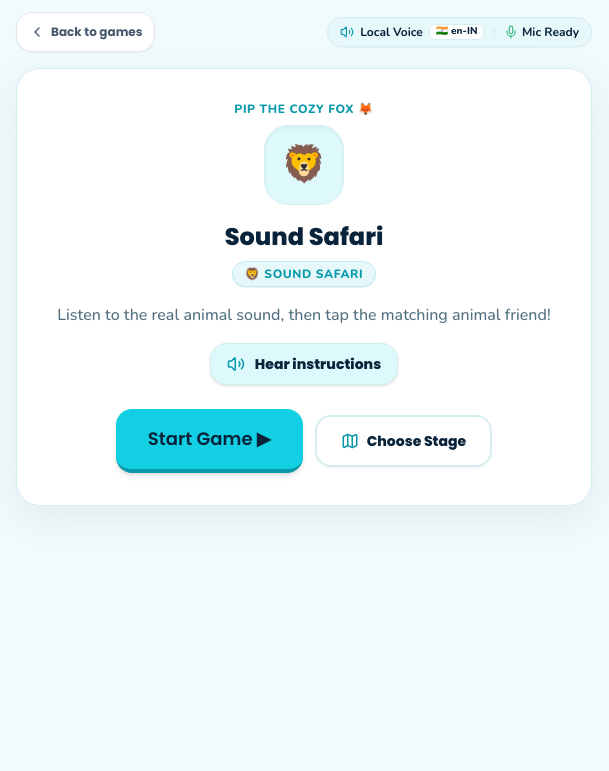
Scenario: Sound Safari 25-Level Real Animal Sound & Gameplay Suite › 10. Route alias /child/games/sound-safari cleanly mounts Sound Safari with 5-stage progression
Expected: the heading "Sound Safari" is shown, [225,220,383,253]
Expected: the text "🦁 Sound Safari" is shown, [232,261,376,287]
# Open Stage Roadmap
Click the button with test id "choose-stage-button": (403, 441) [315,415,492,467]
(page scrolled)
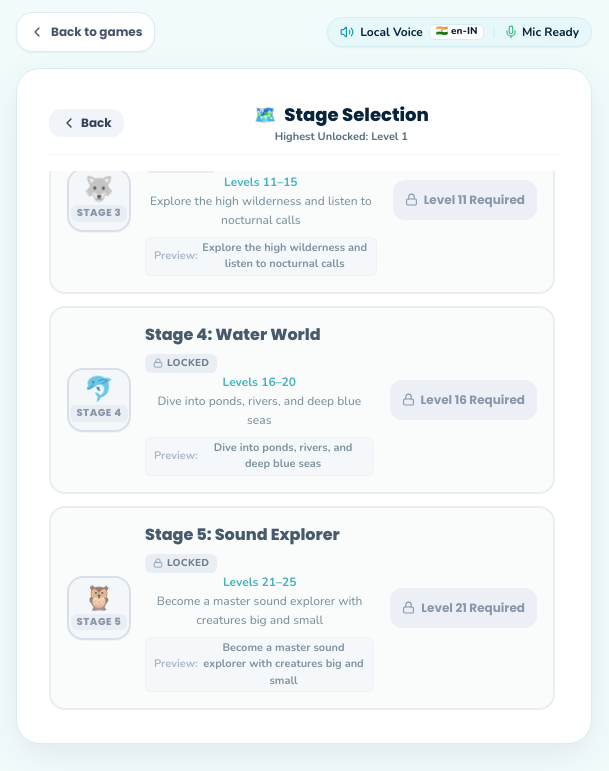
Expected: the heading "🗺️ Stage Selection" is shown, [254,102,429,127]
Expected: the element with test id "stage-card-4" shows "Water World", [145,322,320,346]
Expected: the element with test id "stage-card-5" shows "Sound Explorer", [145,522,340,546]
